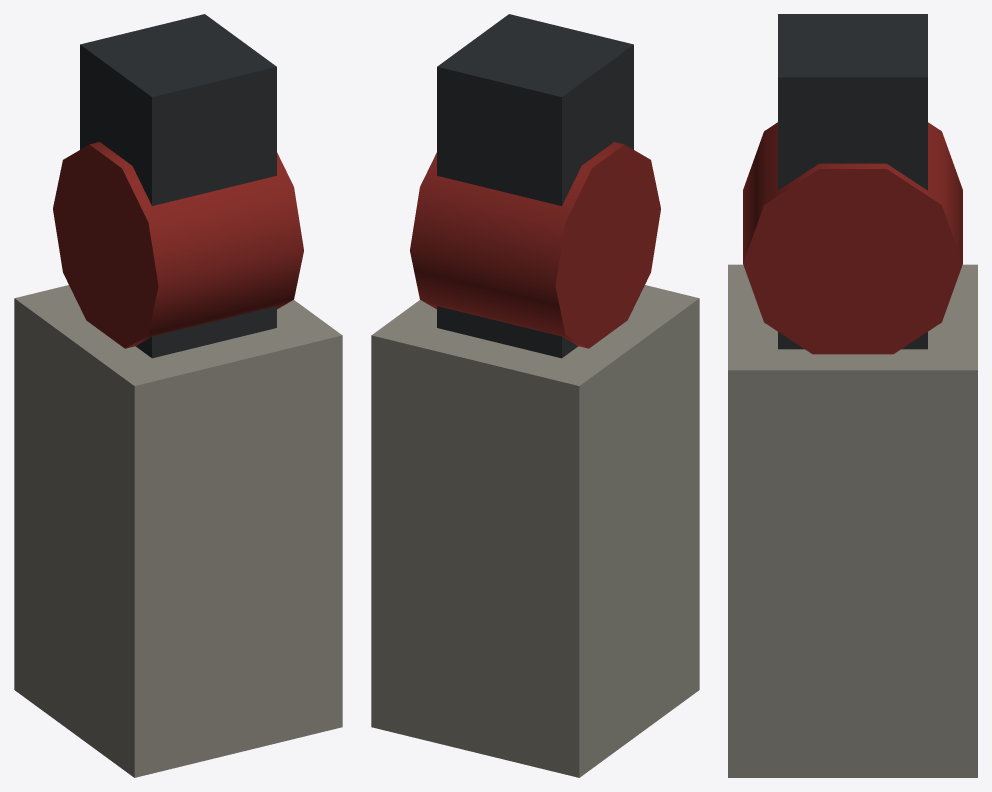
Rendered from crossing-post.glb.
The picture shows the model from 3 angles, left to right: view 1: azimuth 30°, elevation 25°; view 2: azimuth 150°, elevation 25°; view 3: azimuth 270°, elevation 25°; orthographic projection. The views are drawn at different scales.
Visible parts, largest first — view 1: _MeshInstance3D_96, _MeshInstance3D_98, _MeshInstance3D_97; view 2: _MeshInstance3D_96, _MeshInstance3D_98, _MeshInstance3D_97; view 3: _MeshInstance3D_96, _MeshInstance3D_98, _MeshInstance3D_97.
Part boxes in pixels (bbox=[...]): _MeshInstance3D_96: bbox=[14, 285, 342, 777]; _MeshInstance3D_98: bbox=[53, 142, 303, 348]; _MeshInstance3D_97: bbox=[80, 14, 276, 358]; _MeshInstance3D_96: bbox=[371, 285, 699, 777]; _MeshInstance3D_98: bbox=[410, 142, 660, 348]; _MeshInstance3D_97: bbox=[437, 14, 633, 358]; _MeshInstance3D_96: bbox=[728, 264, 977, 777]; _MeshInstance3D_98: bbox=[743, 122, 962, 354]; _MeshInstance3D_97: bbox=[778, 14, 927, 349].
Size of the model in its own units: 0.5 by 1.5 by 0.5.
